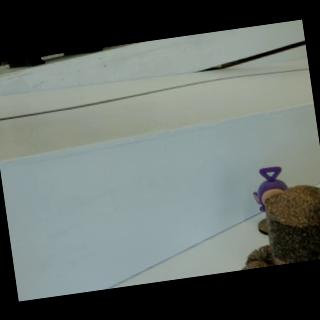teletubby: (252, 166, 287, 211)
